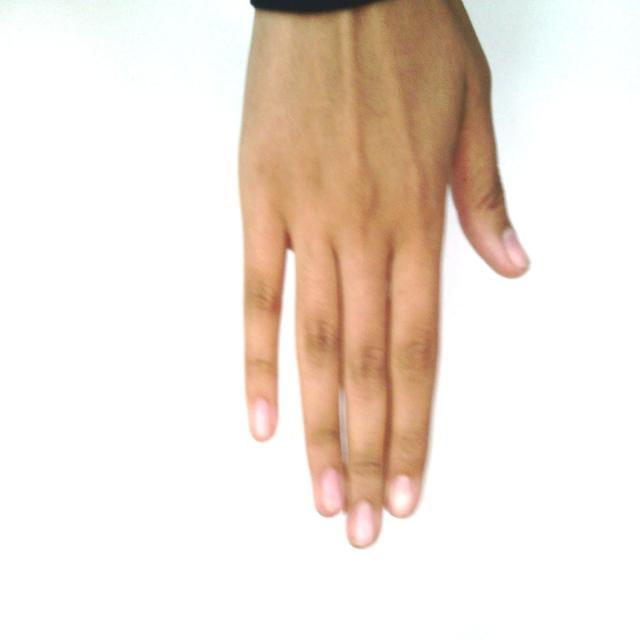Fingernail: (348, 502, 374, 546), (503, 227, 532, 265), (389, 475, 413, 515), (322, 469, 342, 513), (252, 399, 271, 438)
